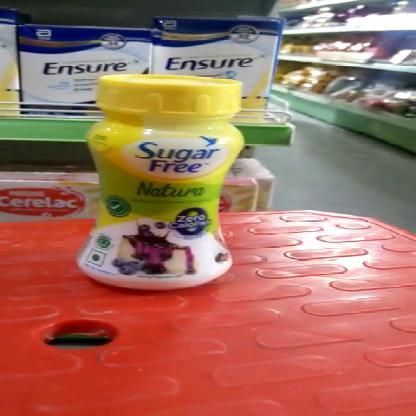SUGAR FREE NATURA_ POWDER_CONC_100G: (73, 70, 247, 294)
